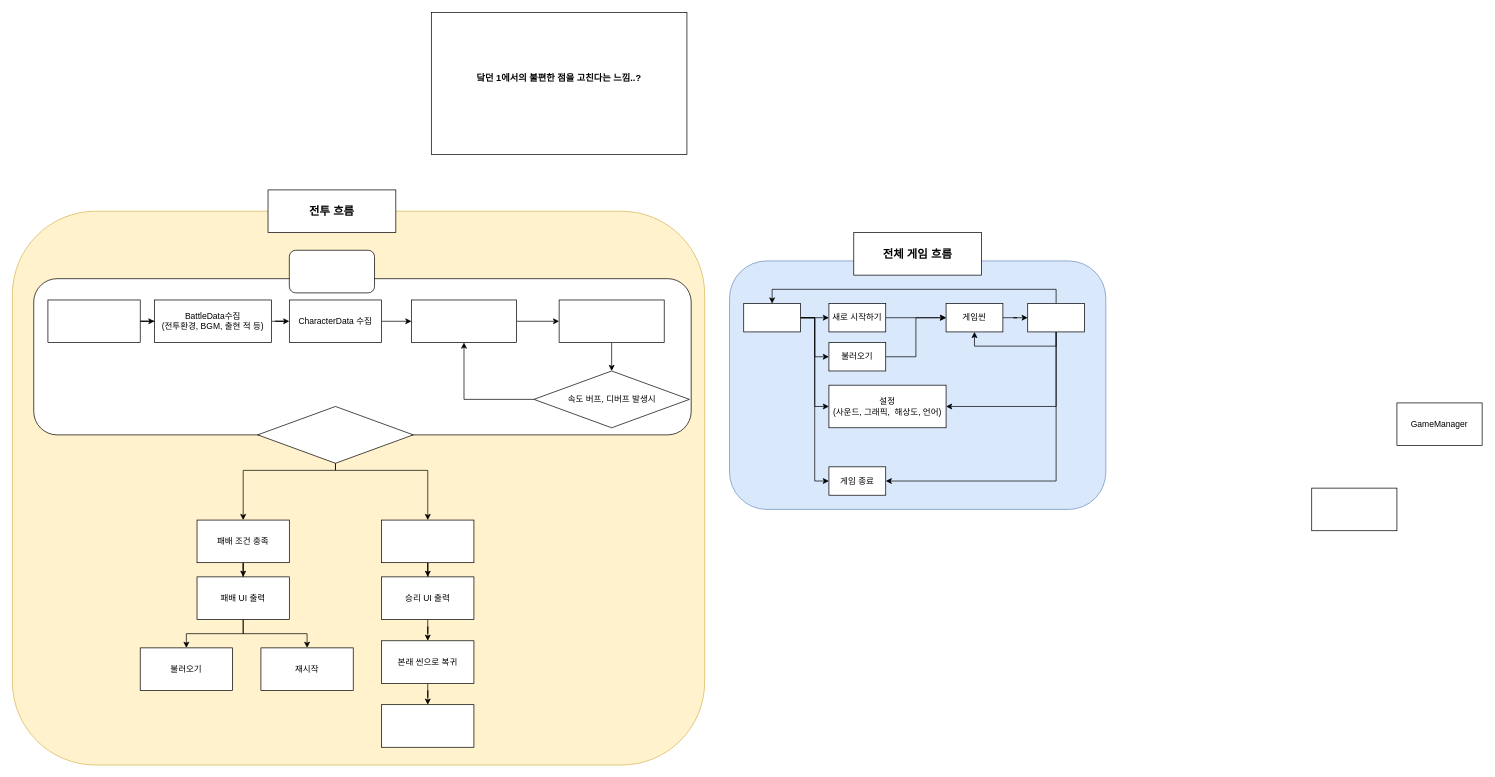
Image size: 1495x777. Some labels were removed from this diagram. Each missing label, with the centre of its shape:
BattleScene 호출: (93,321)
Character 속도순으로 행동순 정렬: (464,321)
ESC: (1056,317)
GameManager에 따른 진행: (427,725)
게임 종료 조건 충족 시: (335,434)
메인씬: (772,317)
승리 조건 충족: (427,541)
전투 진입: (332,271)
턴 잡은 Character의 이동 및 공격 (공격 시 행동 종료): (611,321)
